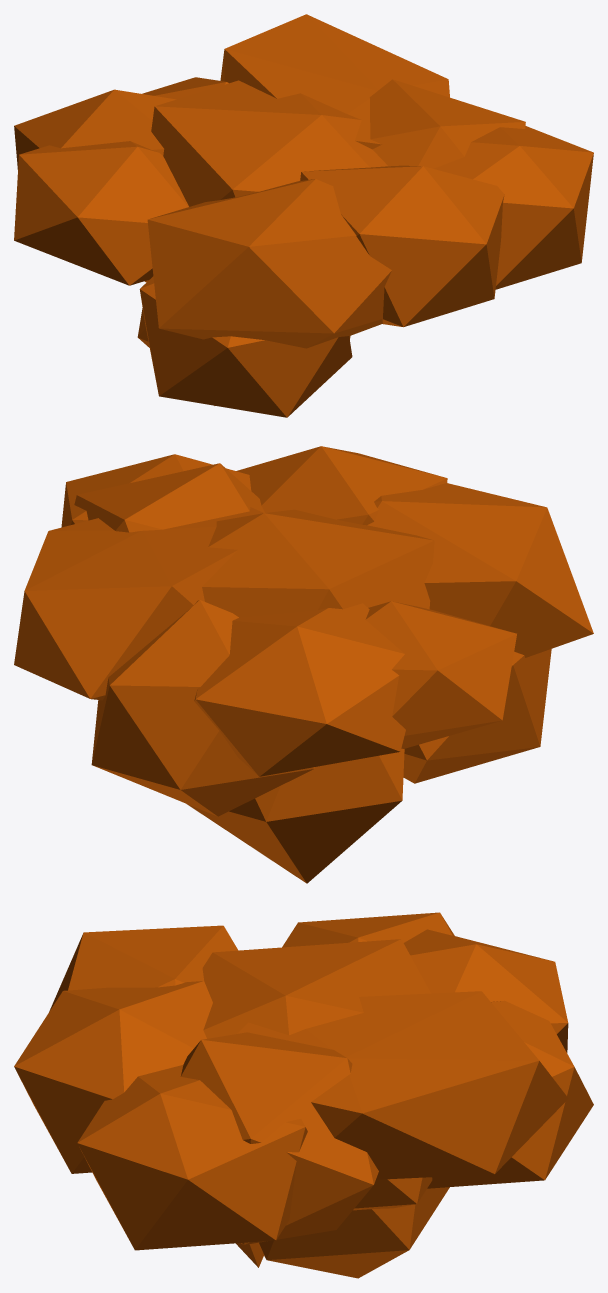
The model's file is Island20xBottom.glb.
3 views of the same model, one above another, from view 1: azimuth 30°, elevation 25°; view 2: azimuth 150°, elevation 25°; view 3: azimuth 270°, elevation 25° (orthographic). The views are drawn at different scales.
Visible parts, largest first — view 1: Island20xBottom; view 2: Island20xBottom; view 3: Island20xBottom.
Part boxes in pixels (x1=…): Island20xBottom: x1=14, y1=14, x2=593, y2=417; Island20xBottom: x1=14, y1=446, x2=593, y2=883; Island20xBottom: x1=14, y1=912, x2=593, y2=1278.
Bounding box in the file's own units: 17.79 × 10.37 × 16.89.
